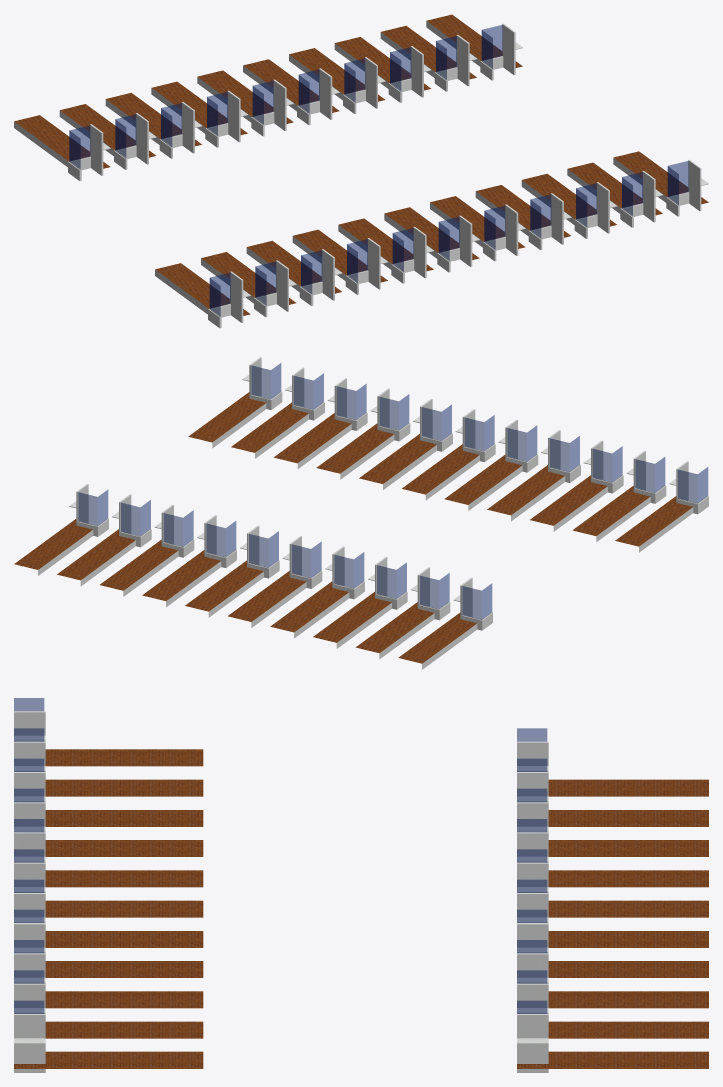
The model's file is SM_JianShi.FBX.
The picture shows the model from 3 angles, top to bottom: view 1: azimuth 30°, elevation 25°; view 2: azimuth 150°, elevation 25°; view 3: azimuth 270°, elevation 25°; orthographic projection. The views are drawn at different scales.
Parts seen in each view (by area): view 1: SM_JianShi; view 2: SM_JianShi; view 3: SM_JianShi.
Boxes of the visible parts, x1,y1,x2,y2 form: SM_JianShi: (14,14,708,328); SM_JianShi: (14,357,708,669); SM_JianShi: (14,698,708,1072).
Bounding box in the file's own units: 3844 × 322 × 3496.
